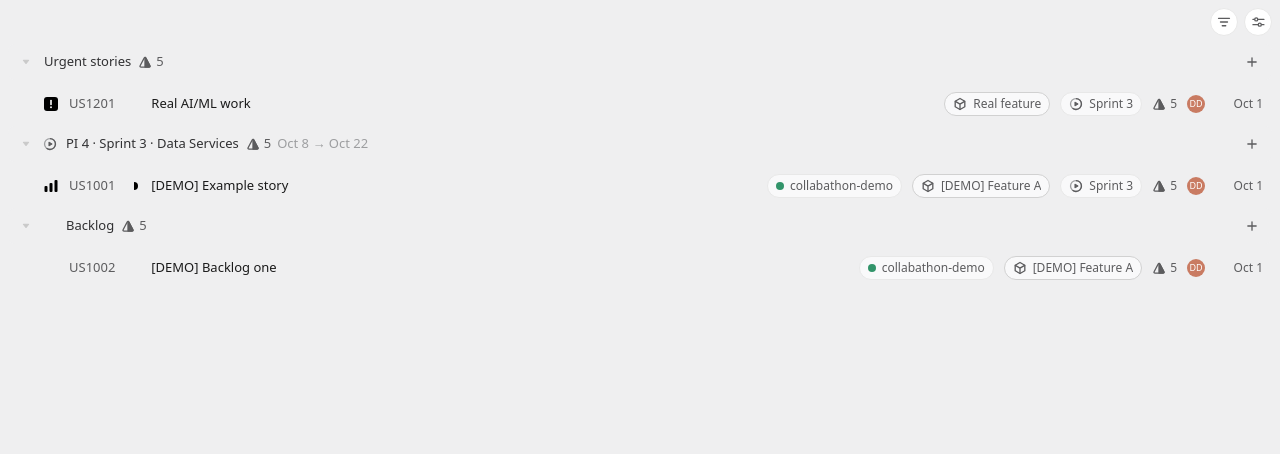
Test: a priority filter narrows the view, with a chip that clears it; values show counts
The width and height of the screenshot is (1280, 454).
Click the button named "Add filter". click: point(1224, 22)
box: [1210,8,1238,36]
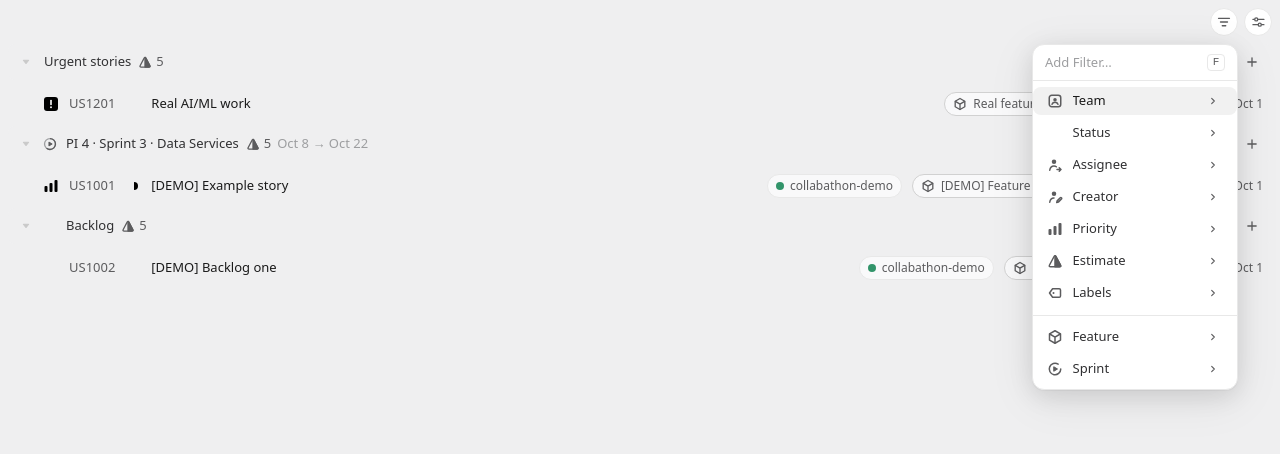
Click the menu item "Priority". click: point(1095, 228)
box: [1046,219,1219,237]
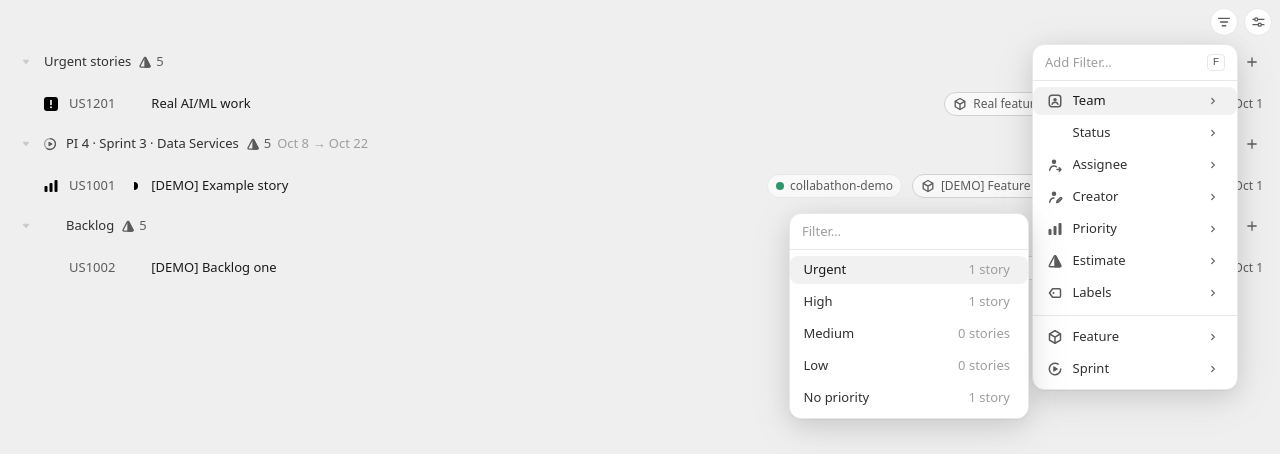
Expected: the menu item "Urgent 1 story" is shown
Click the menu item "Urgent 1 story". click: point(825, 269)
box: [804,260,1010,278]
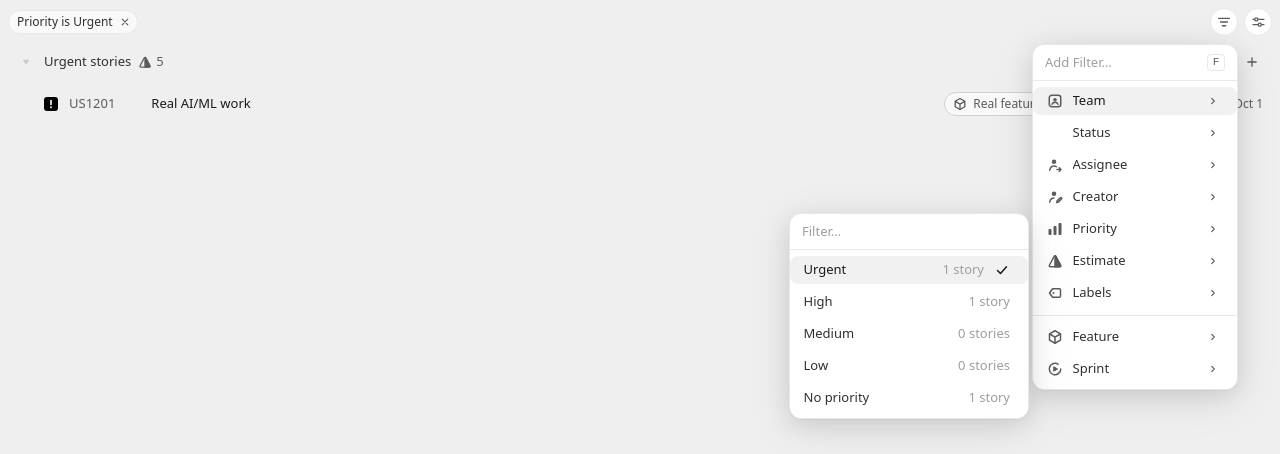
Expected: the number of options is 1, [43,92,1263,116]
Expected: the text "Priority is Urgent" is shown, [8,10,138,34]
Click the button named "Clear Priority filter". click: point(125, 22)
box: [117,14,133,30]
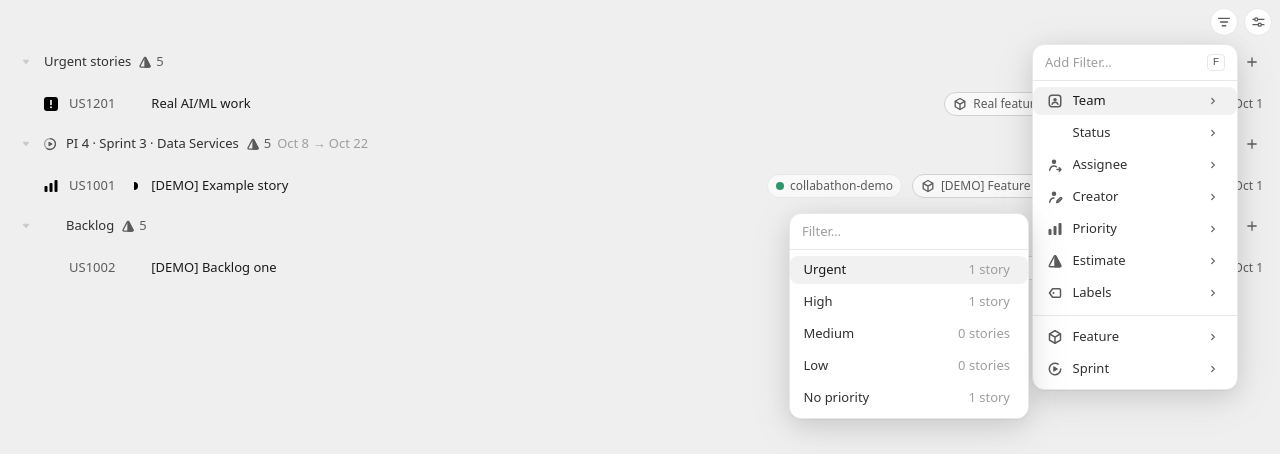
Expected: the number of options is 3, [43,92,1263,116]; [43,174,1263,198]; [43,256,1263,280]
